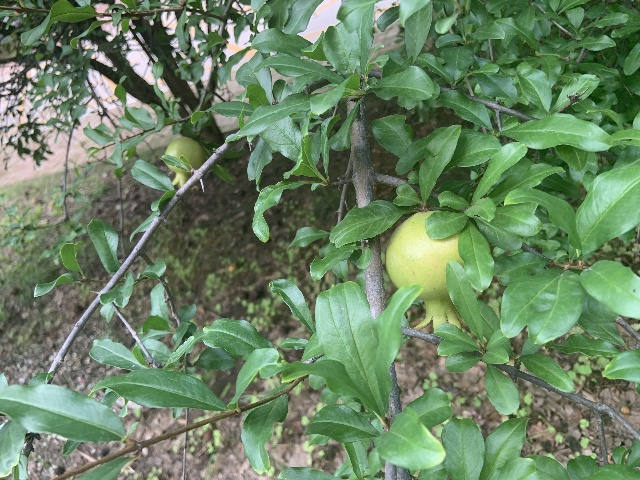mid-growth: (385, 211, 466, 331), (164, 137, 204, 190)
